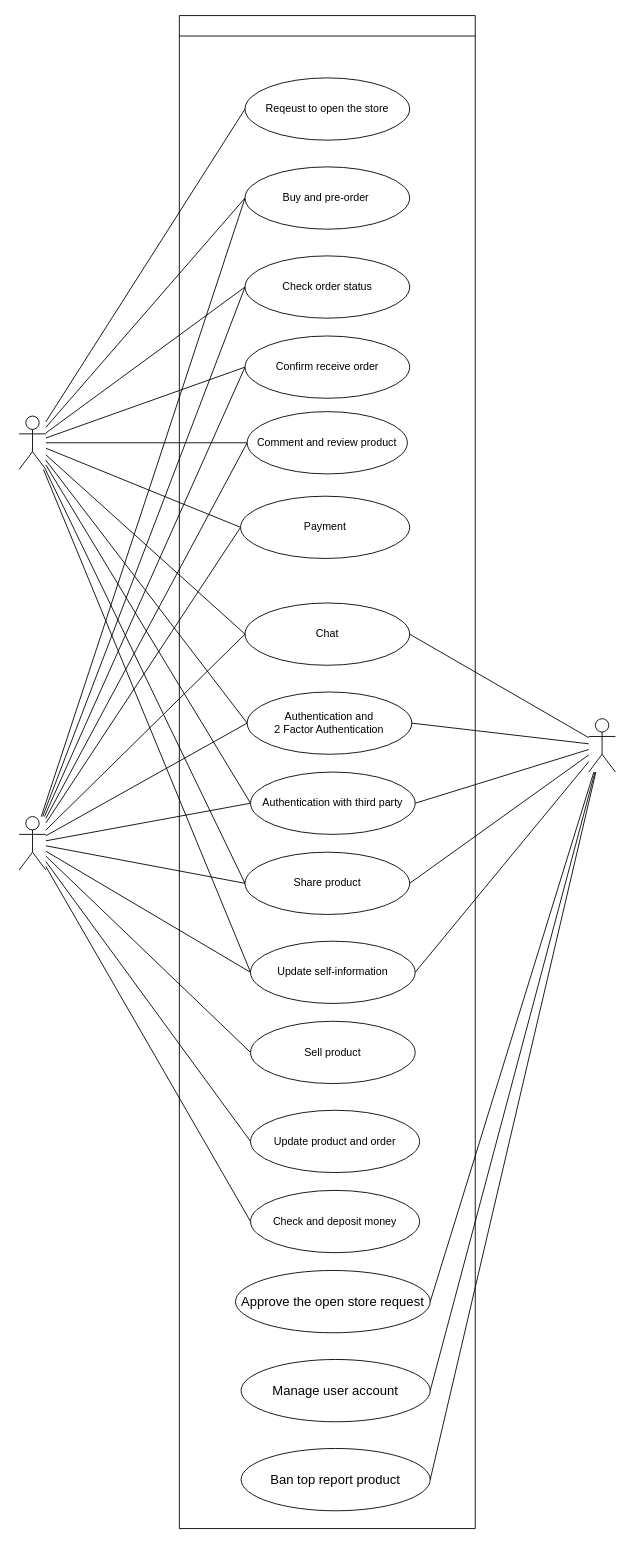
Image size: 633x1544. Some labels were removed from this diagram. The shapes that lost their labels are listed below. From the top down, each one's box as (x1, y1, x2, y2) in pixels, then its label:
(18, 415, 46, 469): User
(588, 718, 615, 772): Admin
(178, 15, 475, 1529): Farmer Promt
(18, 816, 46, 870): Farmer
